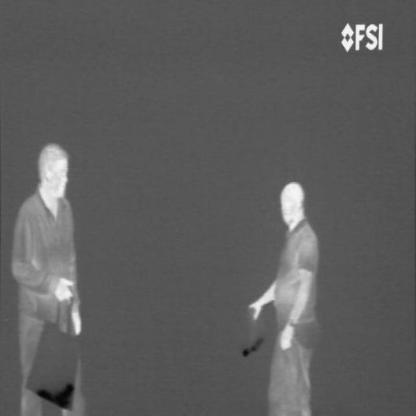weapon: (37, 380, 74, 411)
